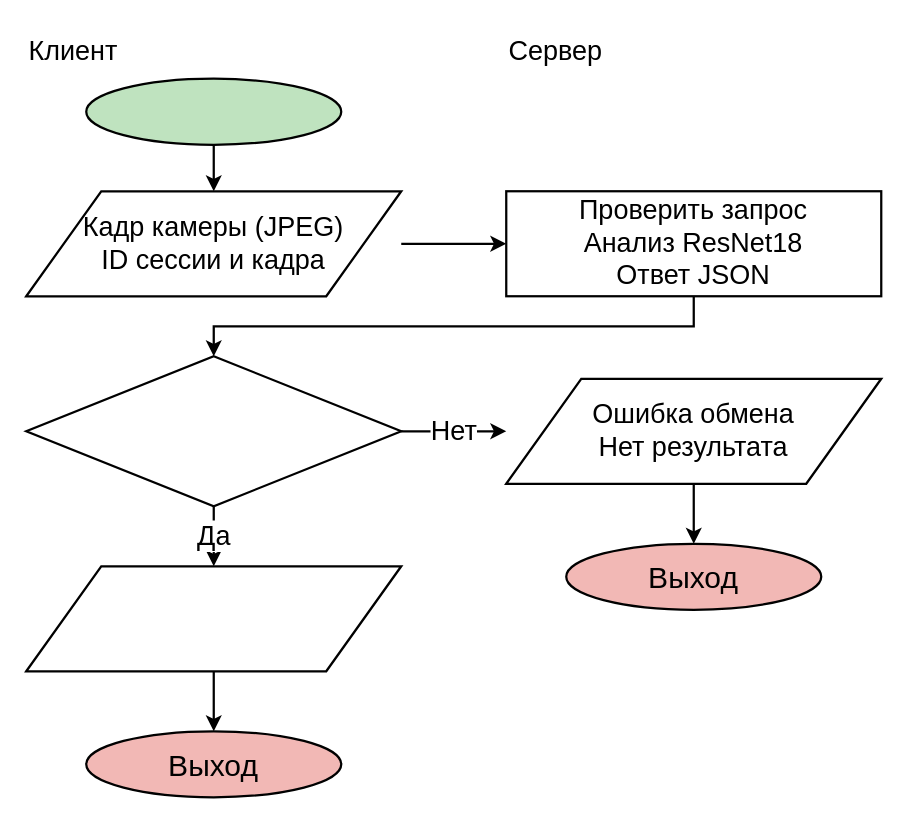
This 909x824 diagram has some shape labels left out. Each missing label, with the centre of its shape:
"Вход" belongs at point 213,111.
"Корректный ответ получен вовремя?" belongs at point 213,430.
"Передать результат на принтер" belongs at point 213,618.
